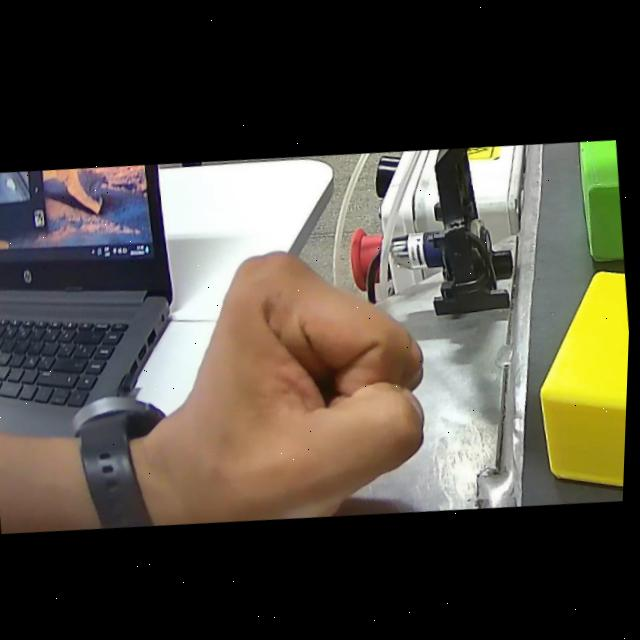greenBox: (573, 132, 630, 267)
yellowBox: (517, 251, 633, 502)
